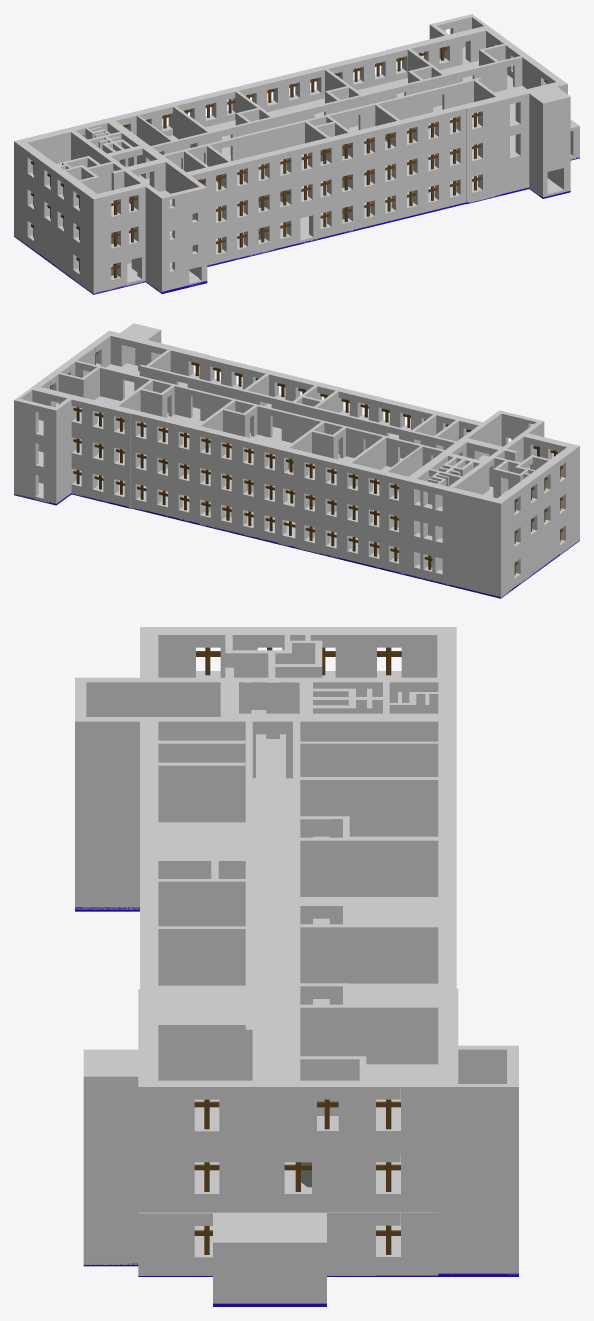
File: mladebuky.gltf
3 renders of one model, top to bottom at view 1: azimuth 30°, elevation 25°; view 2: azimuth 150°, elevation 25°; view 3: azimuth 270°, elevation 25°, orthographic. The views are drawn at different scales.
Visible parts, largest first — view 1: 2.patro-patro_2.Patro, Prizemi-patro_Přízemí, 1.patro-patro_1.Patro; view 2: 2.patro-patro_2.Patro, Prizemi-patro_Přízemí, 1.patro-patro_1.Patro; view 3: 2.patro-patro_2.Patro, Prizemi-patro_Přízemí, 1.patro-patro_1.Patro.
Boxes of the visible parts, x1,y1,x2,y2 form: 2.patro-patro_2.Patro: [14, 14, 570, 230]; Prizemi-patro_Přízemí: [14, 119, 579, 294]; 1.patro-patro_1.Patro: [14, 125, 570, 262]; 2.patro-patro_2.Patro: [14, 323, 579, 534]; Prizemi-patro_Přízemí: [14, 462, 579, 598]; 1.patro-patro_1.Patro: [14, 360, 579, 566]; 2.patro-patro_2.Patro: [75, 627, 518, 1149]; Prizemi-patro_Přízemí: [75, 847, 518, 1306]; 1.patro-patro_1.Patro: [75, 784, 518, 1212].
Bounding box in the file's own units: 1337 × 242 × 512.
